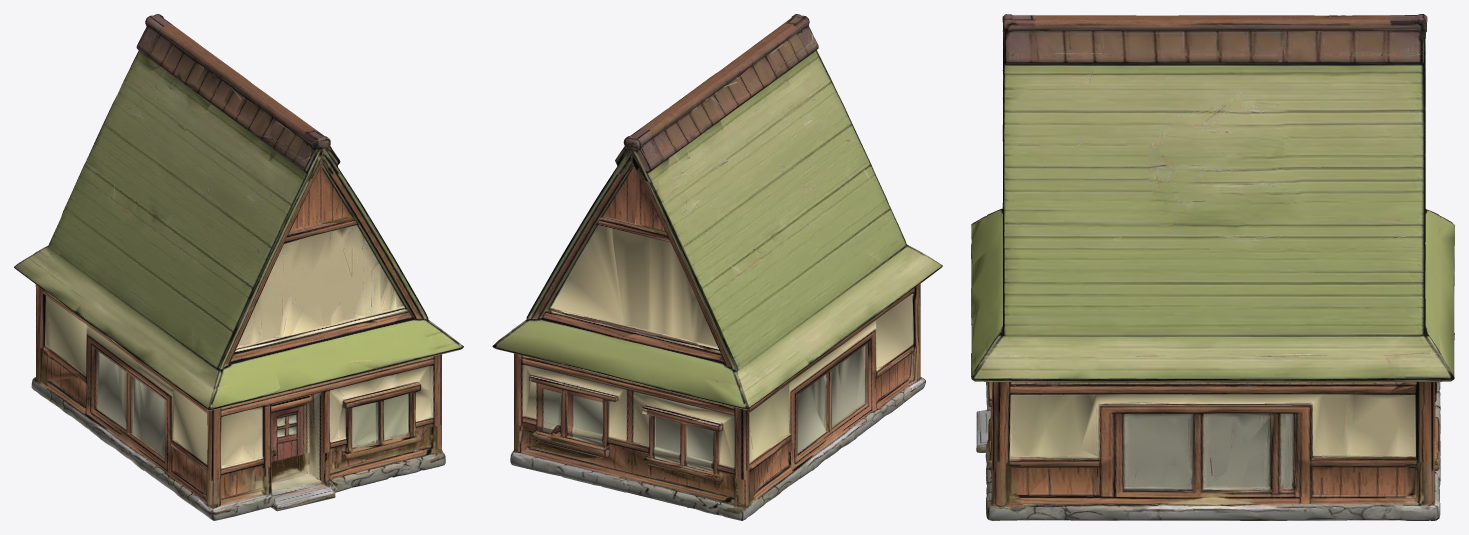
File: kuku-house-4.glb
3 views of the same model, side by side, from view 1: azimuth 30°, elevation 25°; view 2: azimuth 150°, elevation 25°; view 3: azimuth 270°, elevation 25° (orthographic). The views are drawn at different scales.
Parts seen in each view (by area): view 1: Mesh_0; view 2: Mesh_0; view 3: Mesh_0.
Boxes of the visible parts, left/top/right/bottom form: Mesh_0: left=14, top=14, right=463, bottom=520; Mesh_0: left=492, top=14, right=942, bottom=520; Mesh_0: left=971, top=14, right=1454, bottom=520.
Bounding box in the file's own units: 1.45 × 1.9 × 1.91.
1 material, 1 textured.
